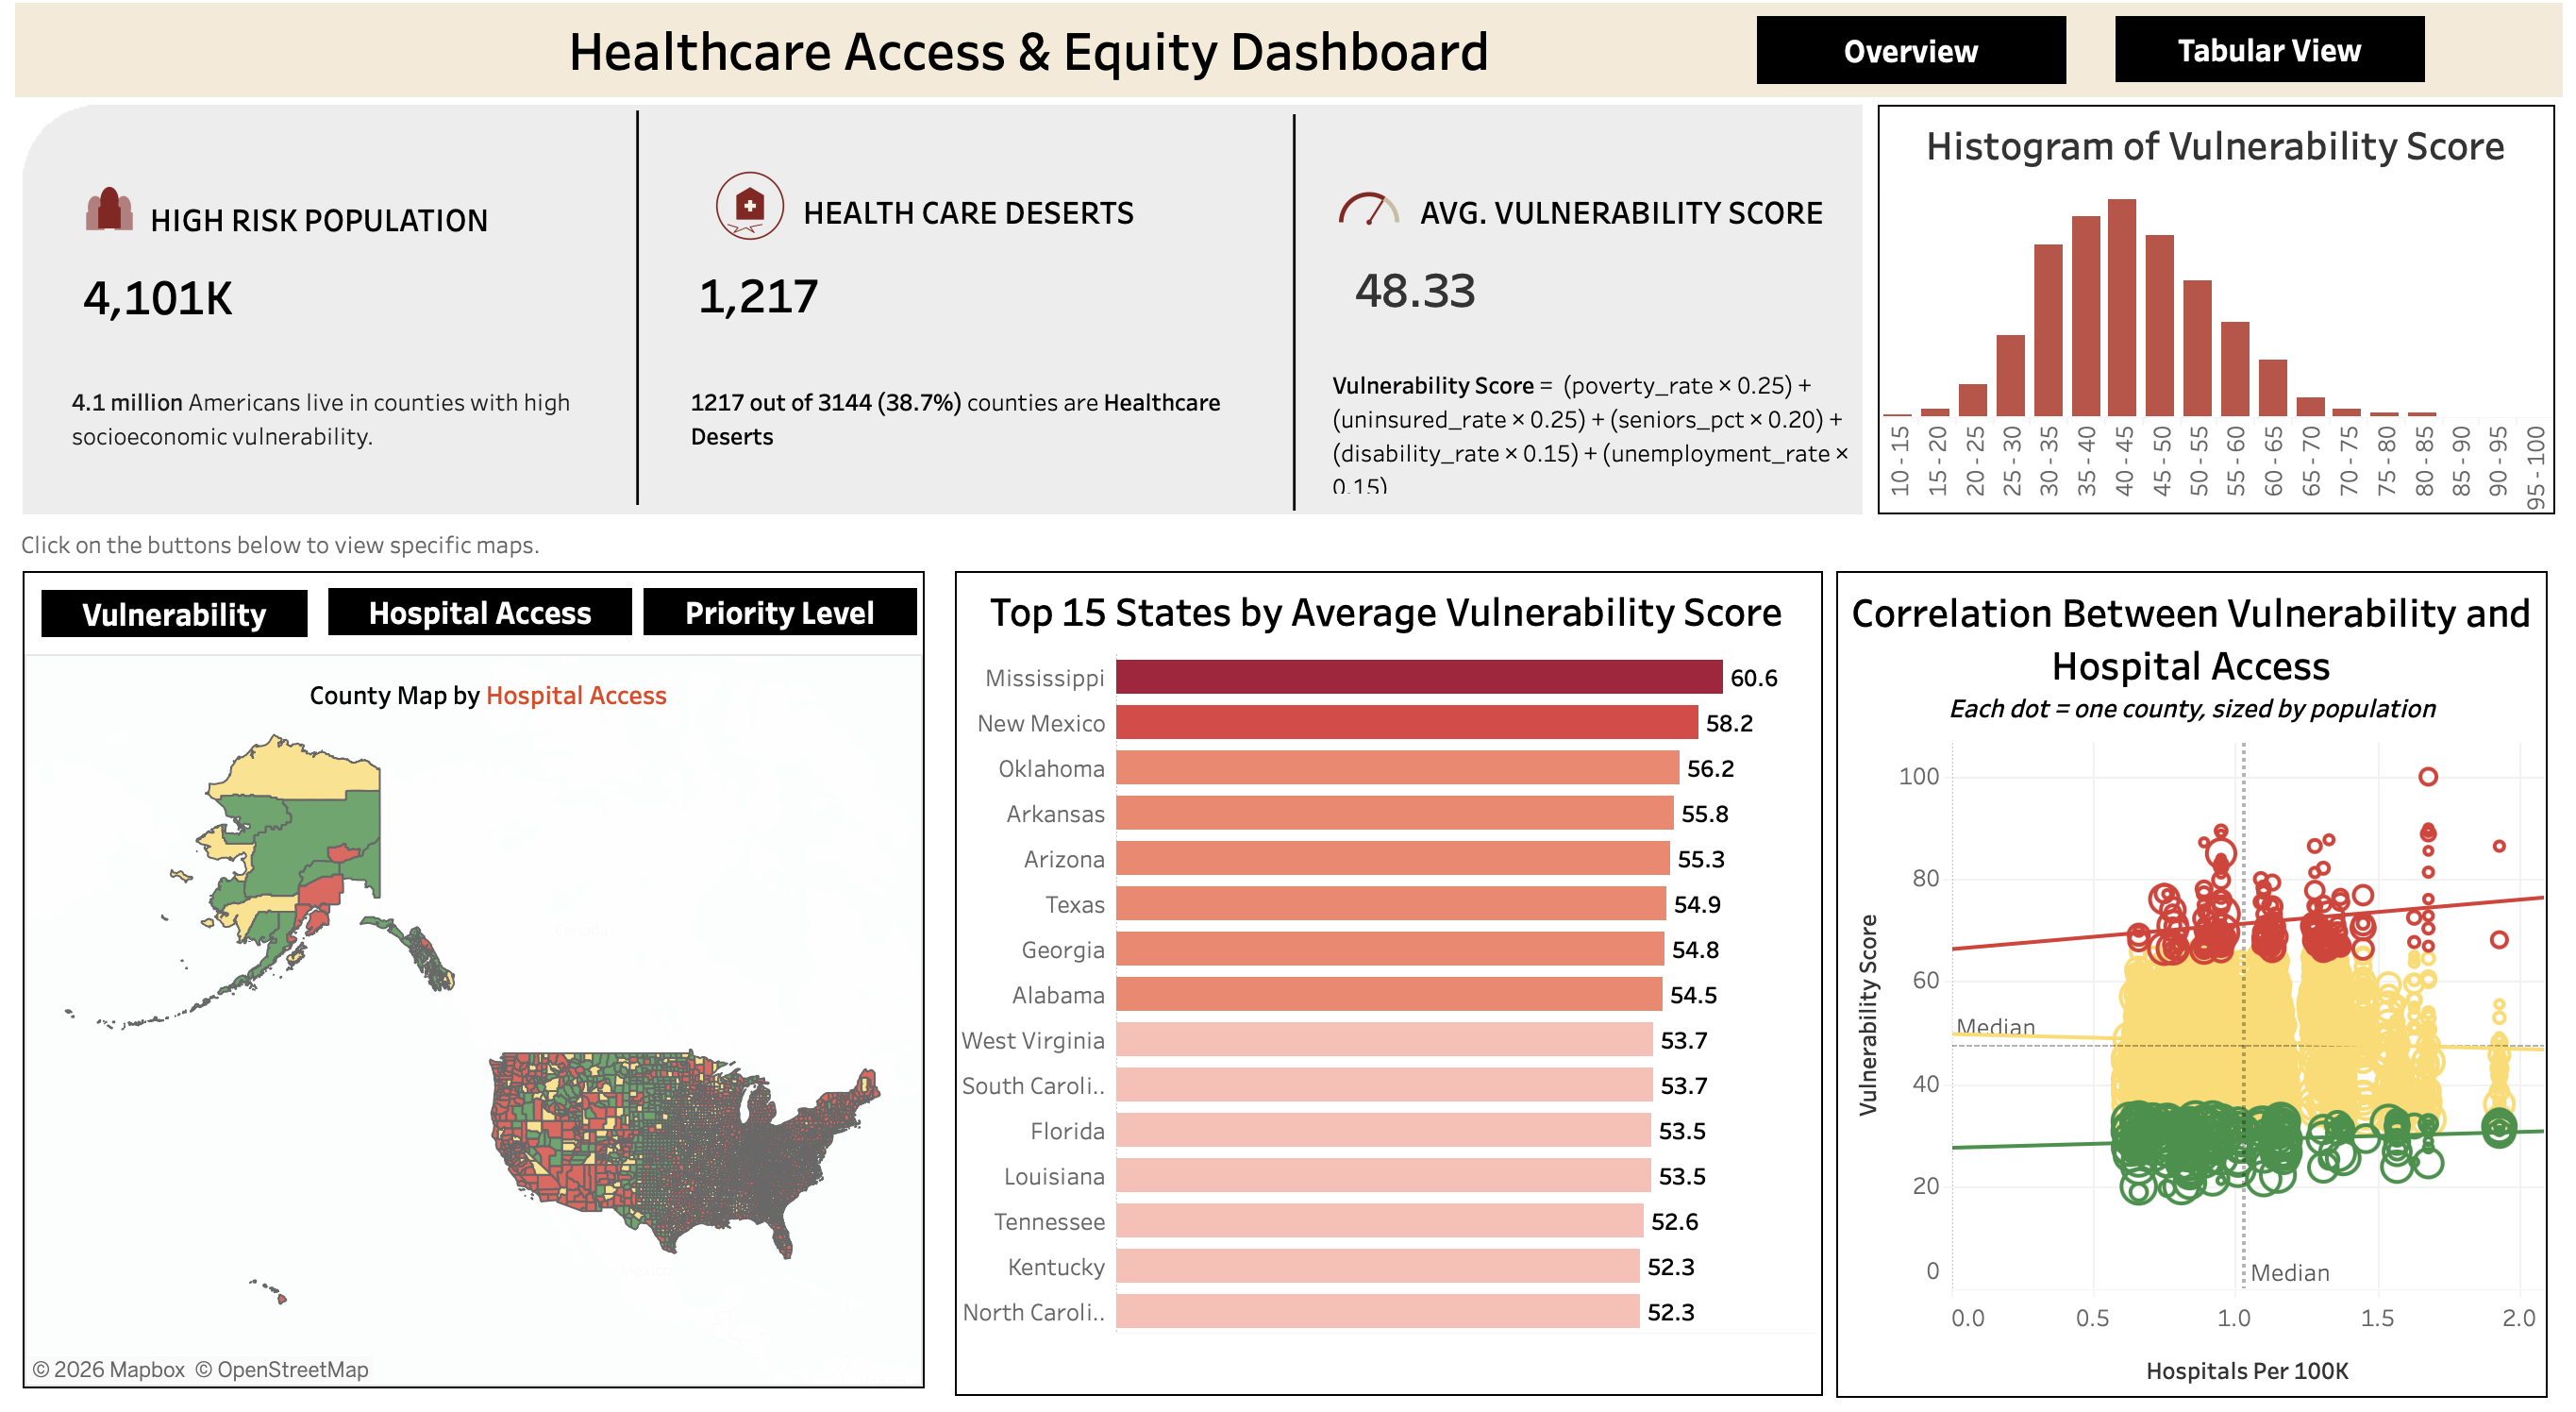

Layout of this report page (visuals, bound fields, positions):
{"tool":"tableau","page":{"name":"Dashboard 1","canvas":[1000,1000],"units":"permille","ordinal":0},"visuals":[{"type":"worksheet","title":"Sheet 1","mark":"Automatic","box":[8.9,6.8,413.8,528.6]},{"type":"worksheet","title":"Sheet 3","mark":"Automatic","rows":["priority_level","state","county"],"box":[596.8,15,382.9,535.4]},{"type":"filter","title":"Sheet 1","param":"[federated.1517m8f12rb6w81at8xzz1ns04v7].[none:state:nk]","box":[432.5,43.6,130.1,212.5]},{"type":"legend","title":"Sheet 3","param":"[federated.1517m8f12rb6w81at8xzz1ns04v7].[none:priority_level:nk]","box":[478.1,317.4,102.4,133.5]},{"type":"legend","title":"Sheet 1","param":"[federated.1517m8f12rb6w81at8xzz1ns04v7].[avg:vulnerability_score:qk]","box":[15.5,550.4,117.9,92.6]},{"type":"worksheet","title":"Sheet 8","mark":"Automatic","box":[761,577.7,213.8,219.3]},{"type":"worksheet","title":"Sheet 6","mark":"Automatic","box":[645.5,641.7,104.9,129.4]},{"type":"text","box":[15.5,652.6,480.5,332.4]},{"type":"worksheet","title":"Sheet 9","mark":"Automatic","box":[668.3,767,139.8,154]},{"type":"worksheet","title":"Sheet 7","mark":"Automatic","box":[831.7,777.9,156.1,143.1]},{"type":"text","box":[765,946.9,232.5,43.6]}]}

Visuals, with their boxes on the dashboard's canvas, which has no fixed pixel size, in thousandths of its width and height (x1, y1, x2, y2). These are canvas units, not pixel positions in the 2576x1412 screenshot, which may show the page scaled, cropped or inside an application window:
"Sheet 1" worksheet: 9 7 423 535
"Sheet 3" worksheet: 597 15 980 550
"Sheet 1" filter: 432 44 563 256
"Sheet 3" legend: 478 317 580 451
"Sheet 1" legend: 16 550 133 643
"Sheet 8" worksheet: 761 578 975 797
"Sheet 6" worksheet: 646 642 750 771
text: 16 653 496 985
"Sheet 9" worksheet: 668 767 808 921
"Sheet 7" worksheet: 832 778 988 921
text: 765 947 998 990
